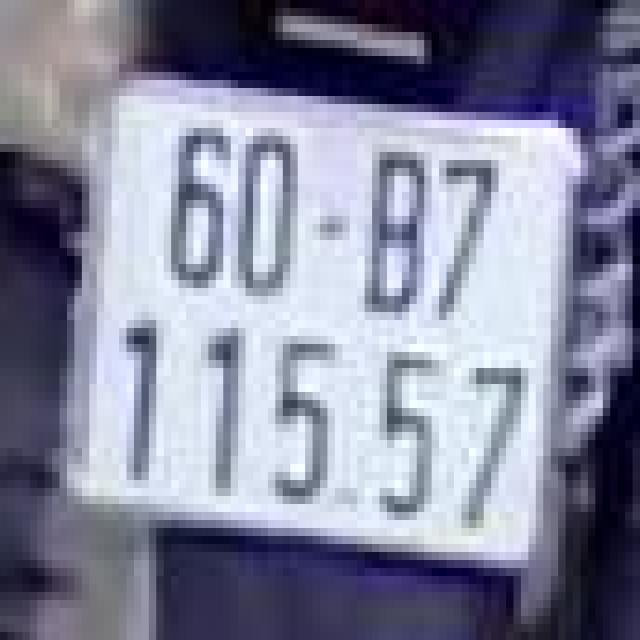0: (234, 120, 302, 312)
1: (112, 296, 178, 496), (182, 308, 250, 500)
5: (364, 336, 446, 536), (272, 324, 338, 508)
6: (156, 112, 231, 296)
7: (458, 348, 532, 556), (436, 148, 502, 324)
B: (361, 136, 428, 328)
